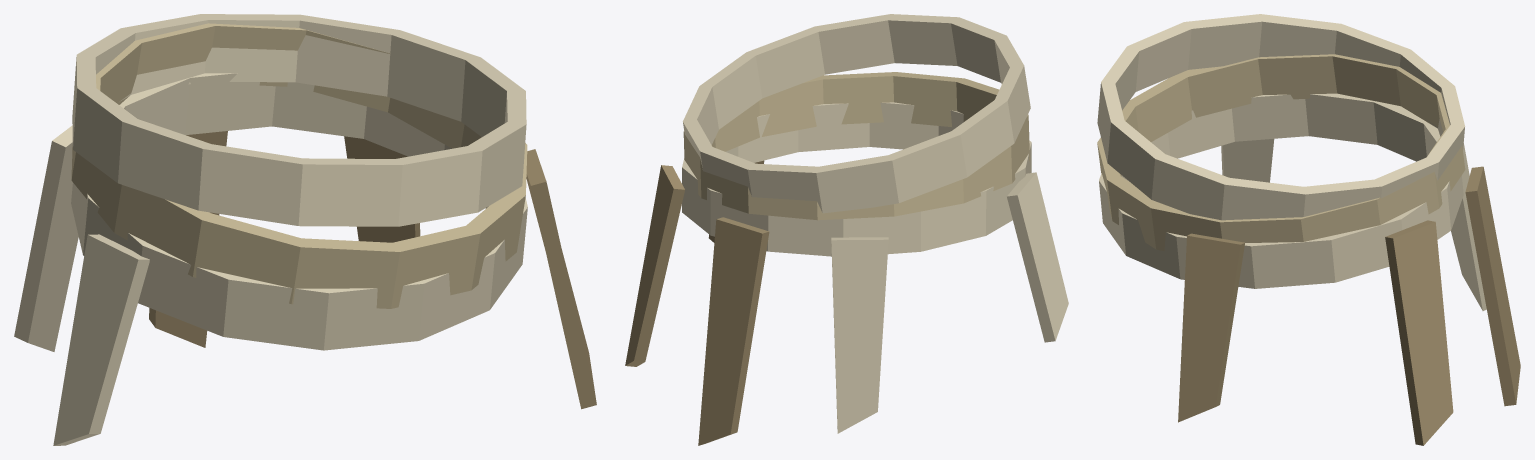
Rendered from mummy_hips.glb.
The picture shows the model from 3 angles, left to right: view 1: azimuth 30°, elevation 25°; view 2: azimuth 150°, elevation 25°; view 3: azimuth 270°, elevation 25°; orthographic projection. The views are drawn at different scales.
Parts seen in each view (by area): view 1: mummy_hips; view 2: mummy_hips; view 3: mummy_hips.
Part boxes in pixels (x1=…): mummy_hips: x1=14, y1=14, x2=596, y2=445; mummy_hips: x1=625, y1=14, x2=1068, y2=445; mummy_hips: x1=1097, y1=14, x2=1520, y2=445.
Bounding box in the file's own units: 0.8947 × 0.6963 × 0.8763.
